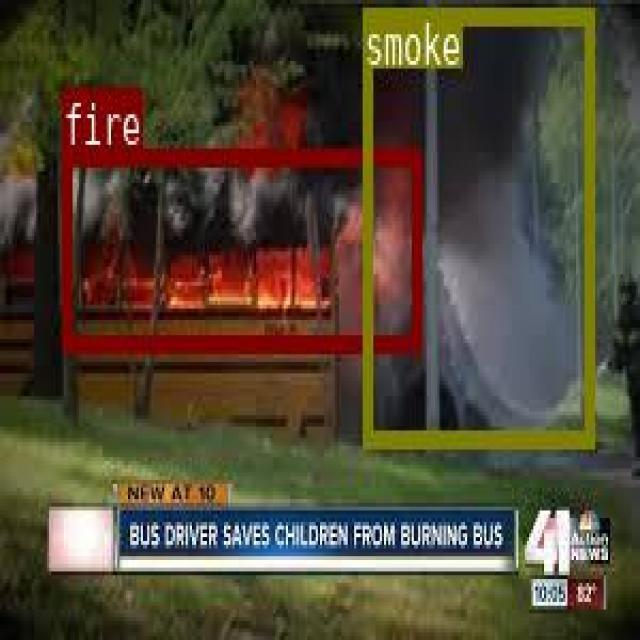fire: (61, 148, 419, 349)
smoke: (363, 5, 592, 443)
